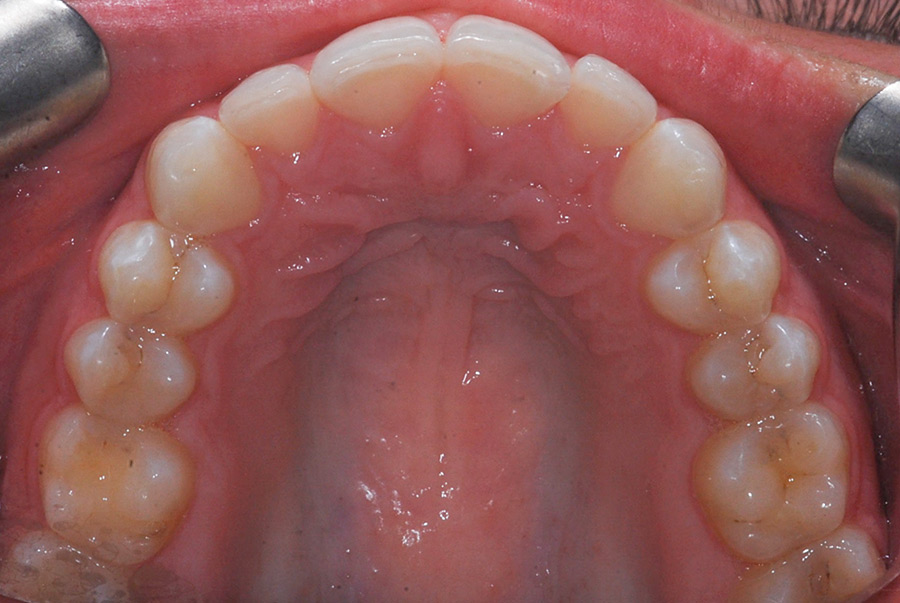UL1BC_healthy: (653, 221, 779, 330)
UL1M_decay: (700, 410, 841, 556)
UL2BC_healthy: (692, 319, 815, 415)
ULCI_healthy: (442, 15, 569, 123)
ULC_healthy: (617, 117, 725, 233)
ULLI_healthy: (569, 53, 657, 146)
UR1BC_healthy: (101, 224, 233, 327)
UR1M_decay: (45, 416, 185, 560)
UR2BC_decay: (69, 325, 193, 418)
URCI_healthy: (314, 16, 438, 124)
URC_healthy: (147, 115, 257, 230)
URLI_healthy: (220, 65, 314, 146)
